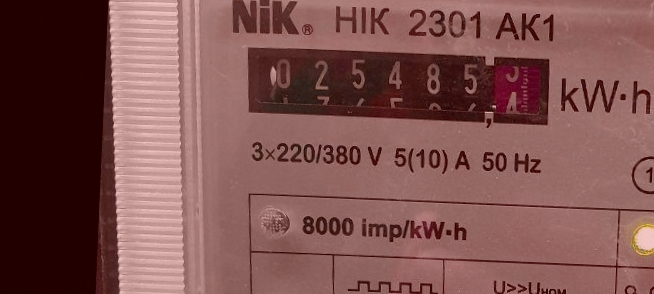0: (272, 55, 294, 91)
2: (311, 56, 332, 92)
4: (384, 57, 406, 92), (502, 88, 522, 117)
5: (459, 60, 481, 98), (347, 55, 369, 91)
8: (423, 58, 444, 97)
screen: (235, 37, 560, 137)
